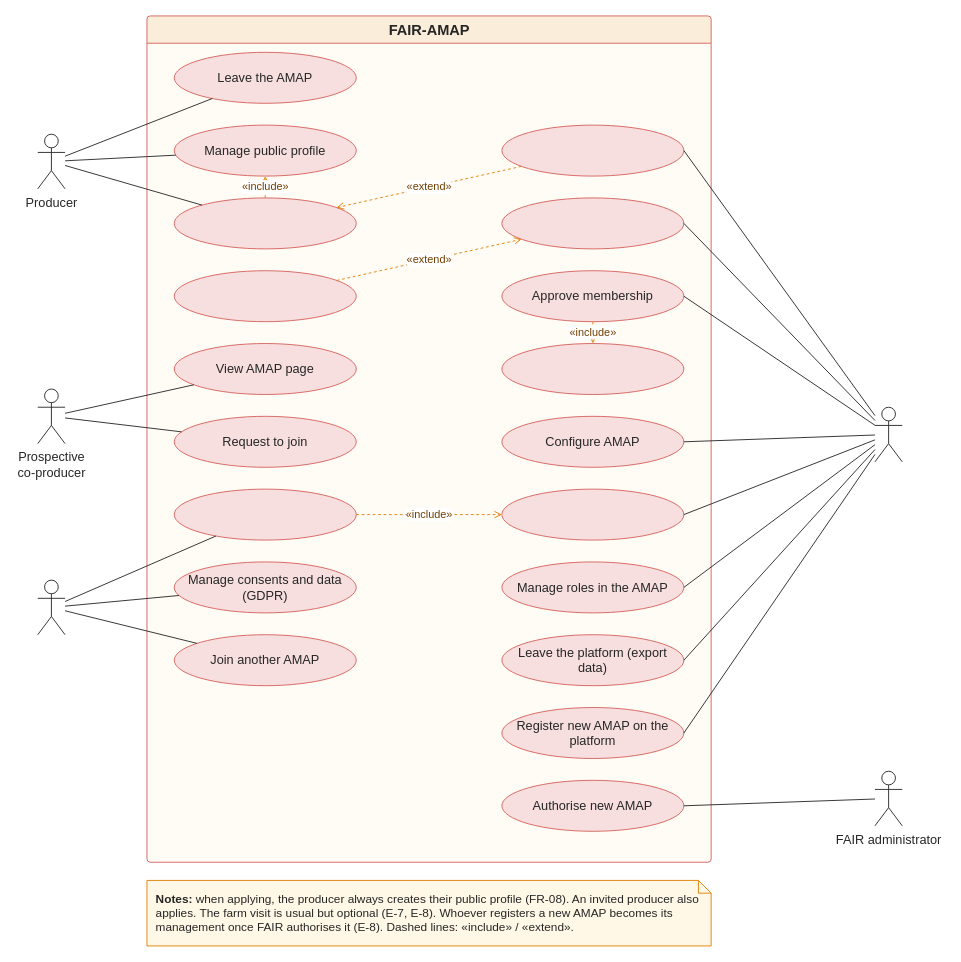
Some shapes in this 961 by 962 pixel diagram are drawn without their labels. Each missing label, with the box of its shape:
Accept withdrawal: (501, 488, 684, 540)
AMAP management: (874, 406, 902, 462)
Apply to an AMAP: (173, 197, 356, 249)
Approve producer application: (501, 197, 684, 249)
Co-producer: (37, 579, 65, 635)
Invite producer: (501, 124, 684, 176)
Leave mid-subscription: (173, 488, 356, 540)
Manage waiting list: (501, 343, 684, 394)
Record farm visit: (173, 270, 356, 322)
